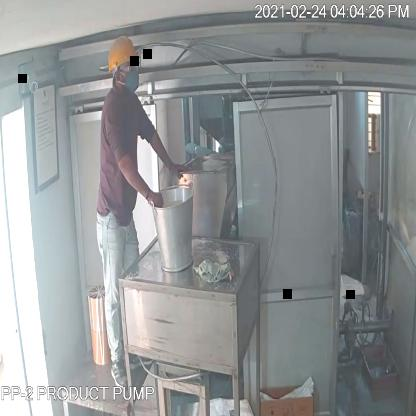helmet: (104, 28, 146, 79)
